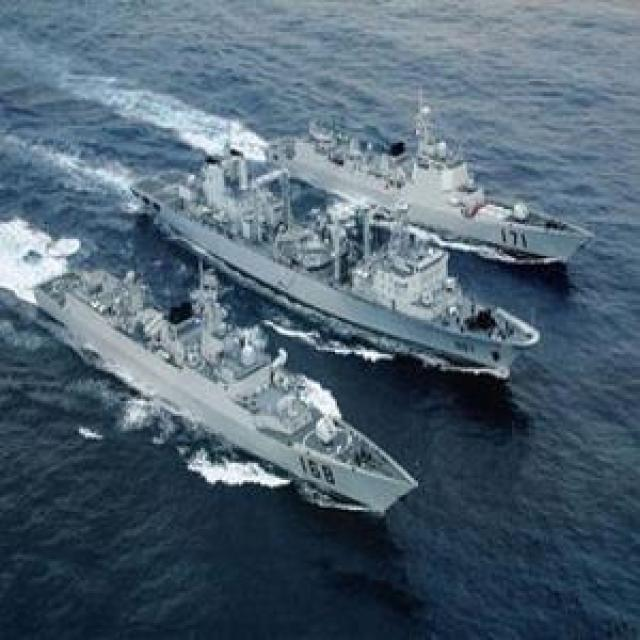navalvessels: (23, 248, 407, 519), (135, 154, 543, 371), (276, 111, 600, 266)
